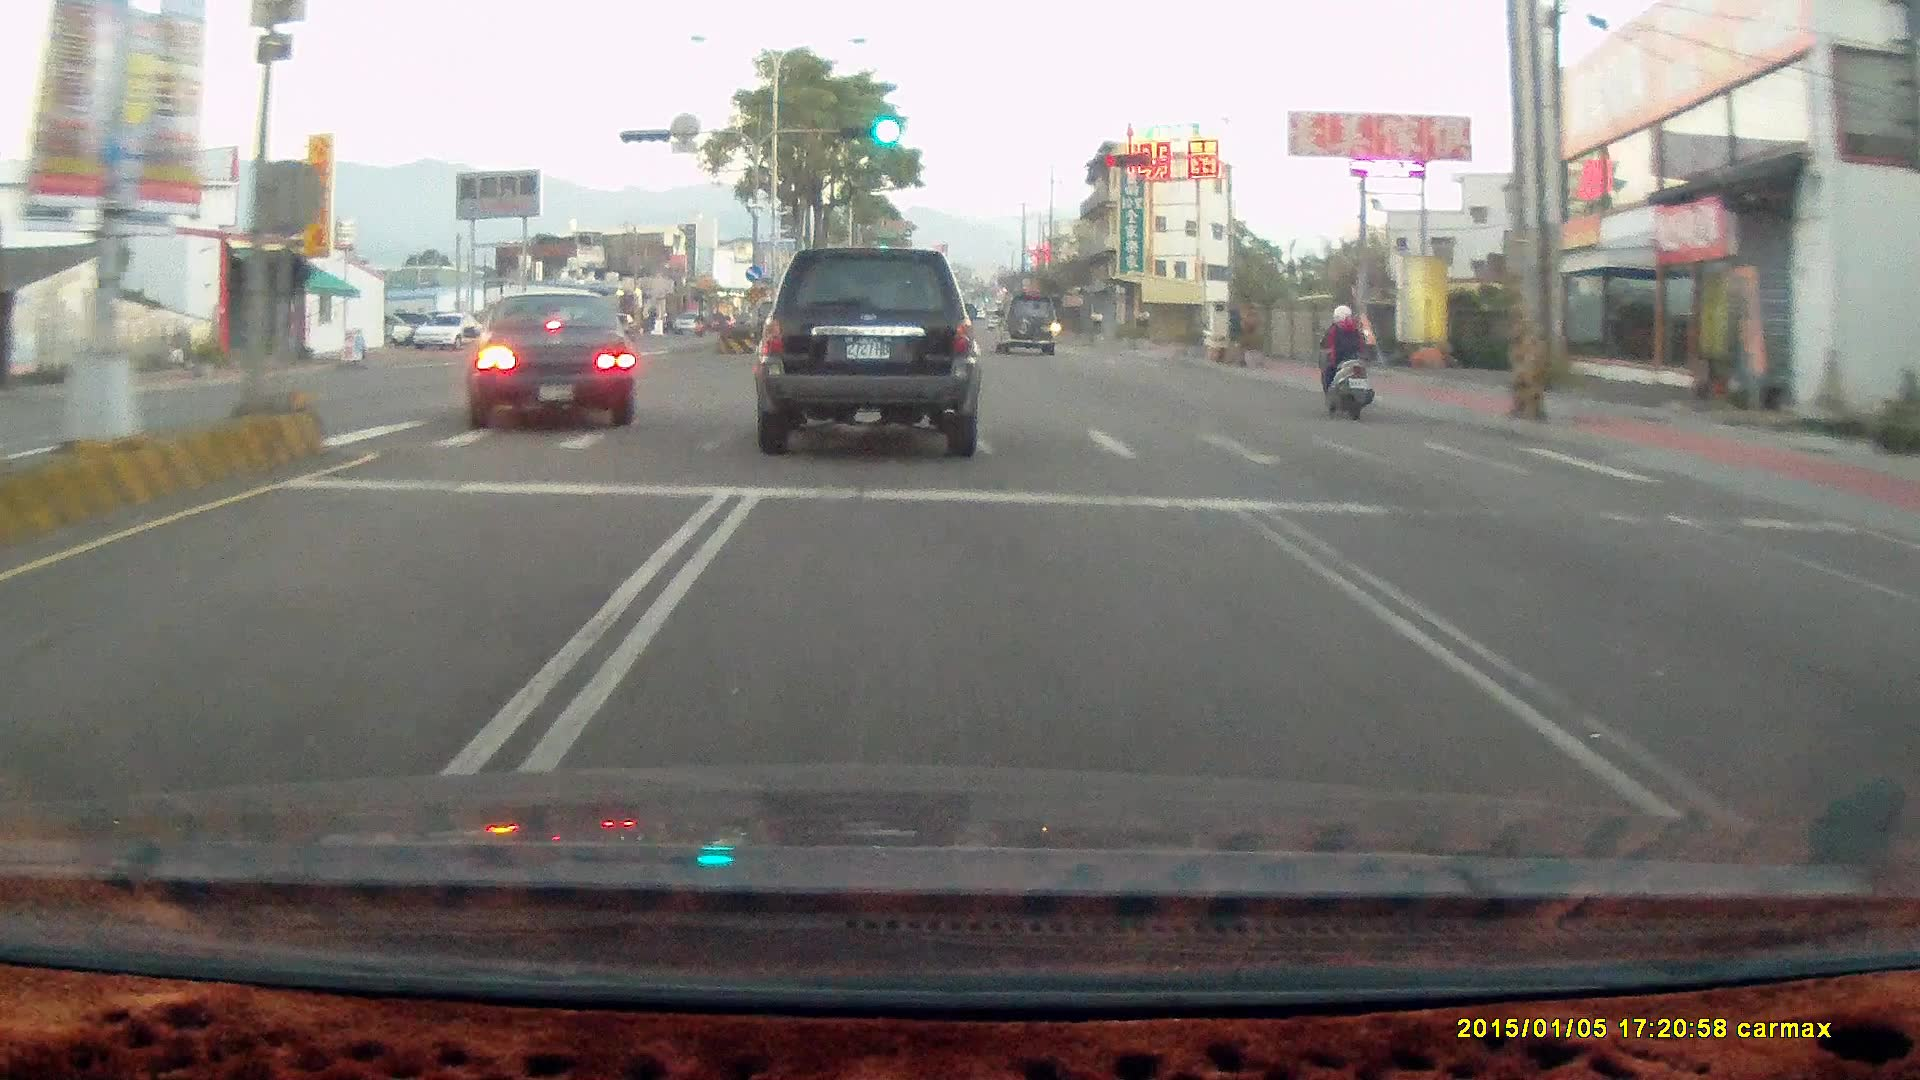rider: (1304, 295, 1386, 428), (1311, 299, 1374, 419)
vehicle: (752, 245, 981, 456), (757, 241, 984, 452), (460, 283, 635, 426), (460, 288, 634, 425), (994, 292, 1060, 360), (993, 279, 1058, 342), (411, 311, 485, 349)
